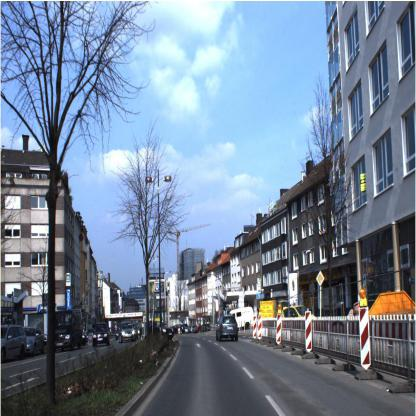other: (313, 268, 326, 289)
